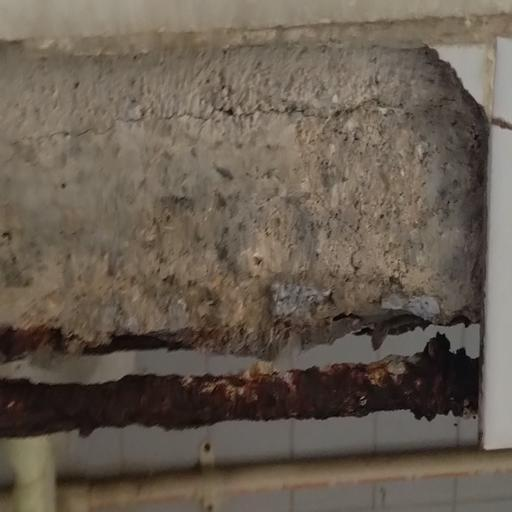spalling: (0, 29, 506, 348)
